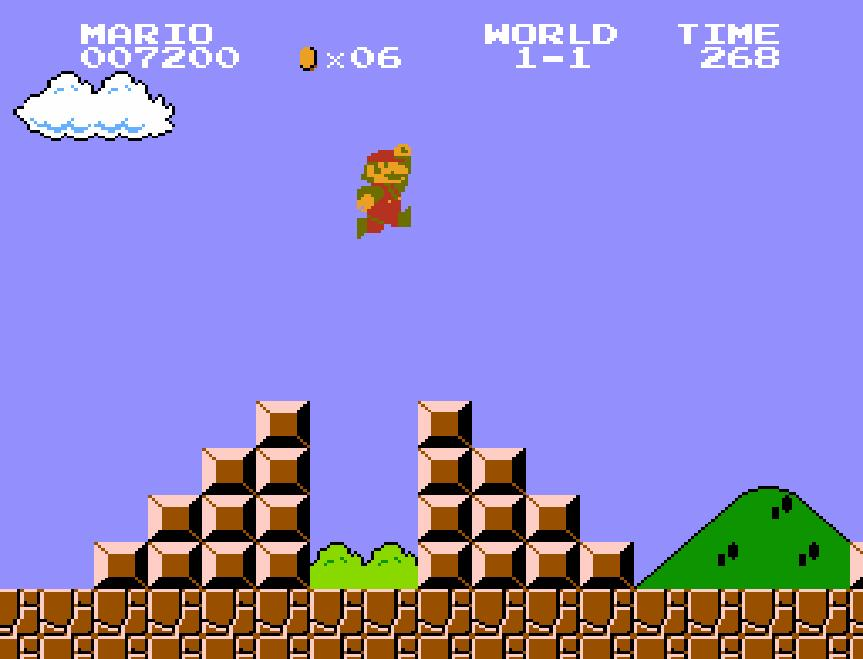big_mario: (355, 142, 413, 240)
